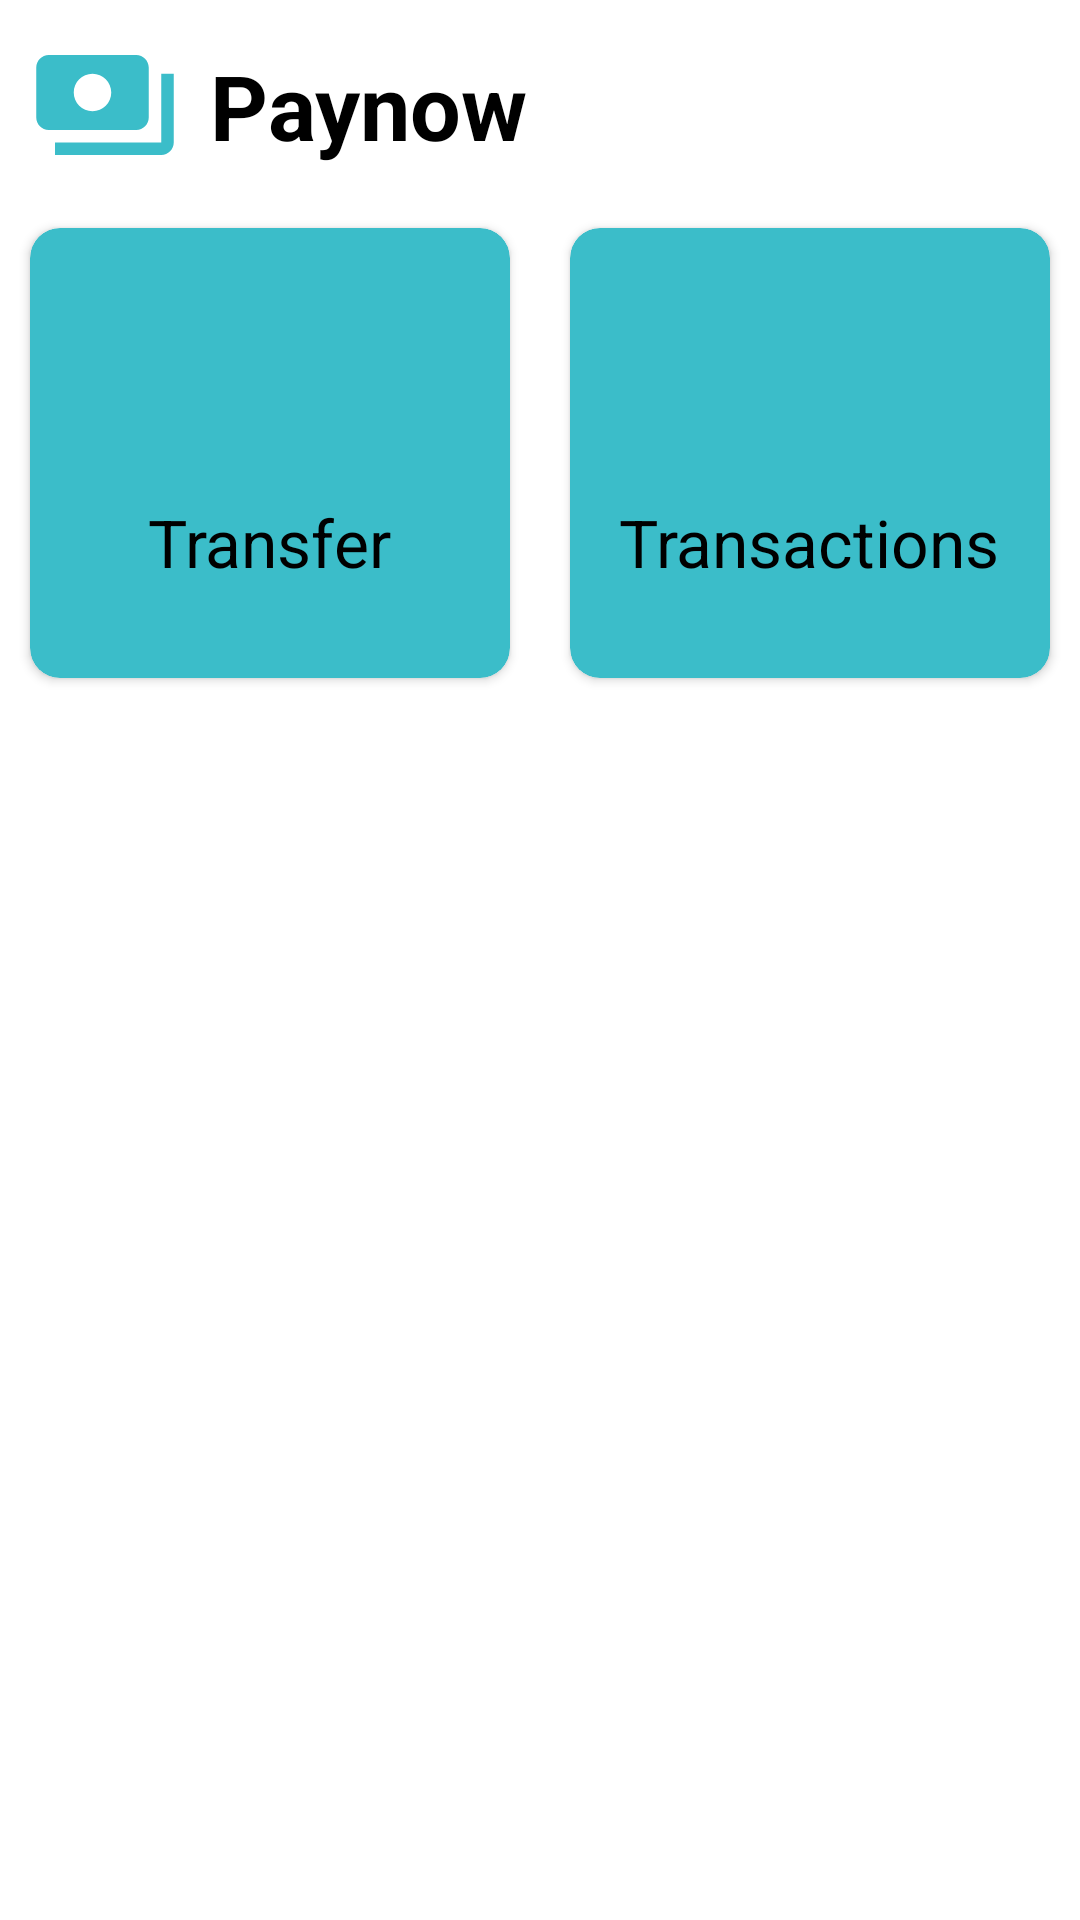

Point at icon controls on the screen. Image size 1080px×1920px, points as (x,y).
payments: (105,105)
